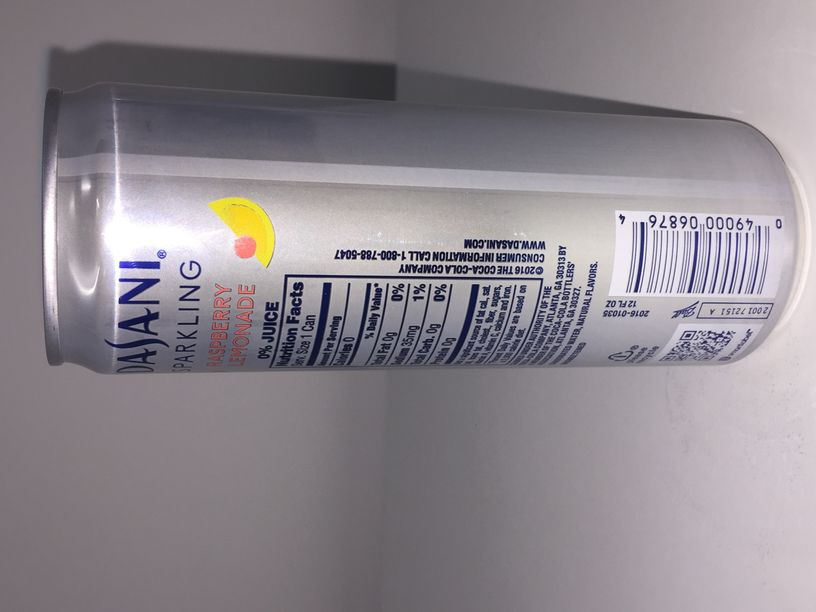lemonade: (41, 81, 802, 376)
